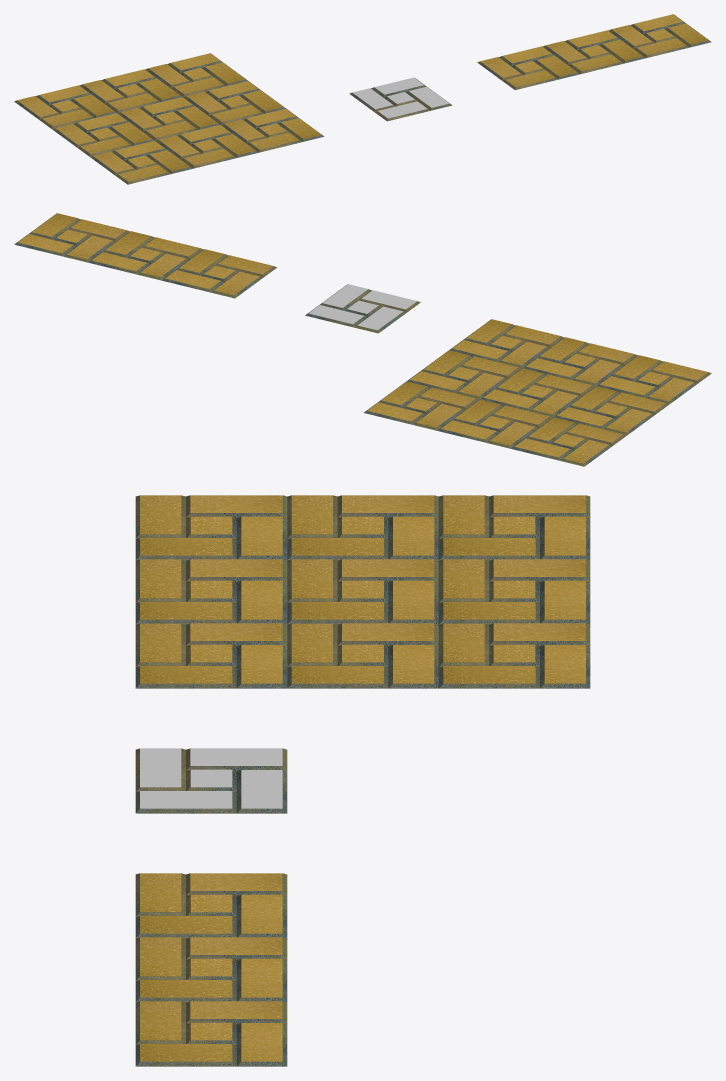
The model's file is Chão 1.fbx.
The picture shows the model from 3 angles, top to bottom: view 1: azimuth 30°, elevation 25°; view 2: azimuth 150°, elevation 25°; view 3: azimuth 270°, elevation 25°; orthographic projection. The views are drawn at different scales.
Visible parts, largest first — view 1: Plano.004, Plano.003, Plano.001; view 2: Plano.004, Plano.003, Plano.001; view 3: Plano.004, Plano.003, Plano.001.
Boxes of the visible parts, x1,y1,x2,y2 form: Plano.004: (14,53,324,184); Plano.003: (477,14,711,89); Plano.001: (349,77,452,121); Plano.004: (364,319,711,466); Plano.003: (14,213,276,298); Plano.001: (305,284,420,333); Plano.004: (135,495,590,688); Plano.003: (135,873,287,1066); Plano.001: (135,748,287,813).
Bounding box in the file's own units: 26026 × 66.58 × 8775.
